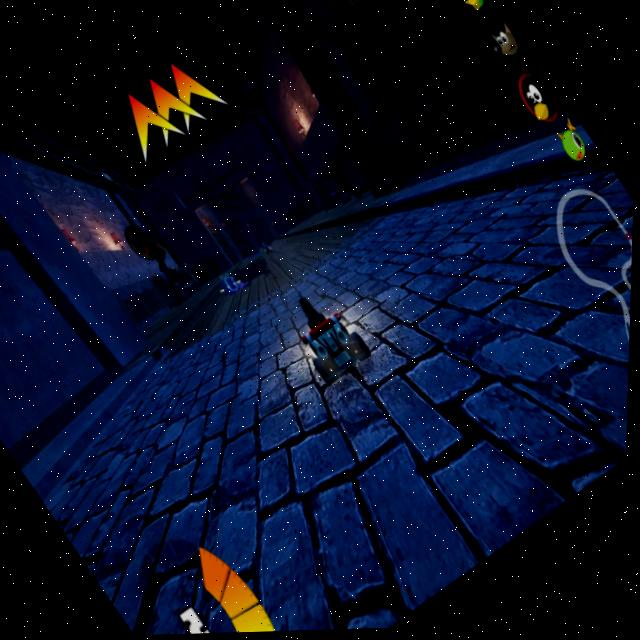bonus: (220, 274, 240, 296)
player_kart: (275, 281, 385, 400)
track: (156, 280, 302, 411), (269, 230, 340, 299)
